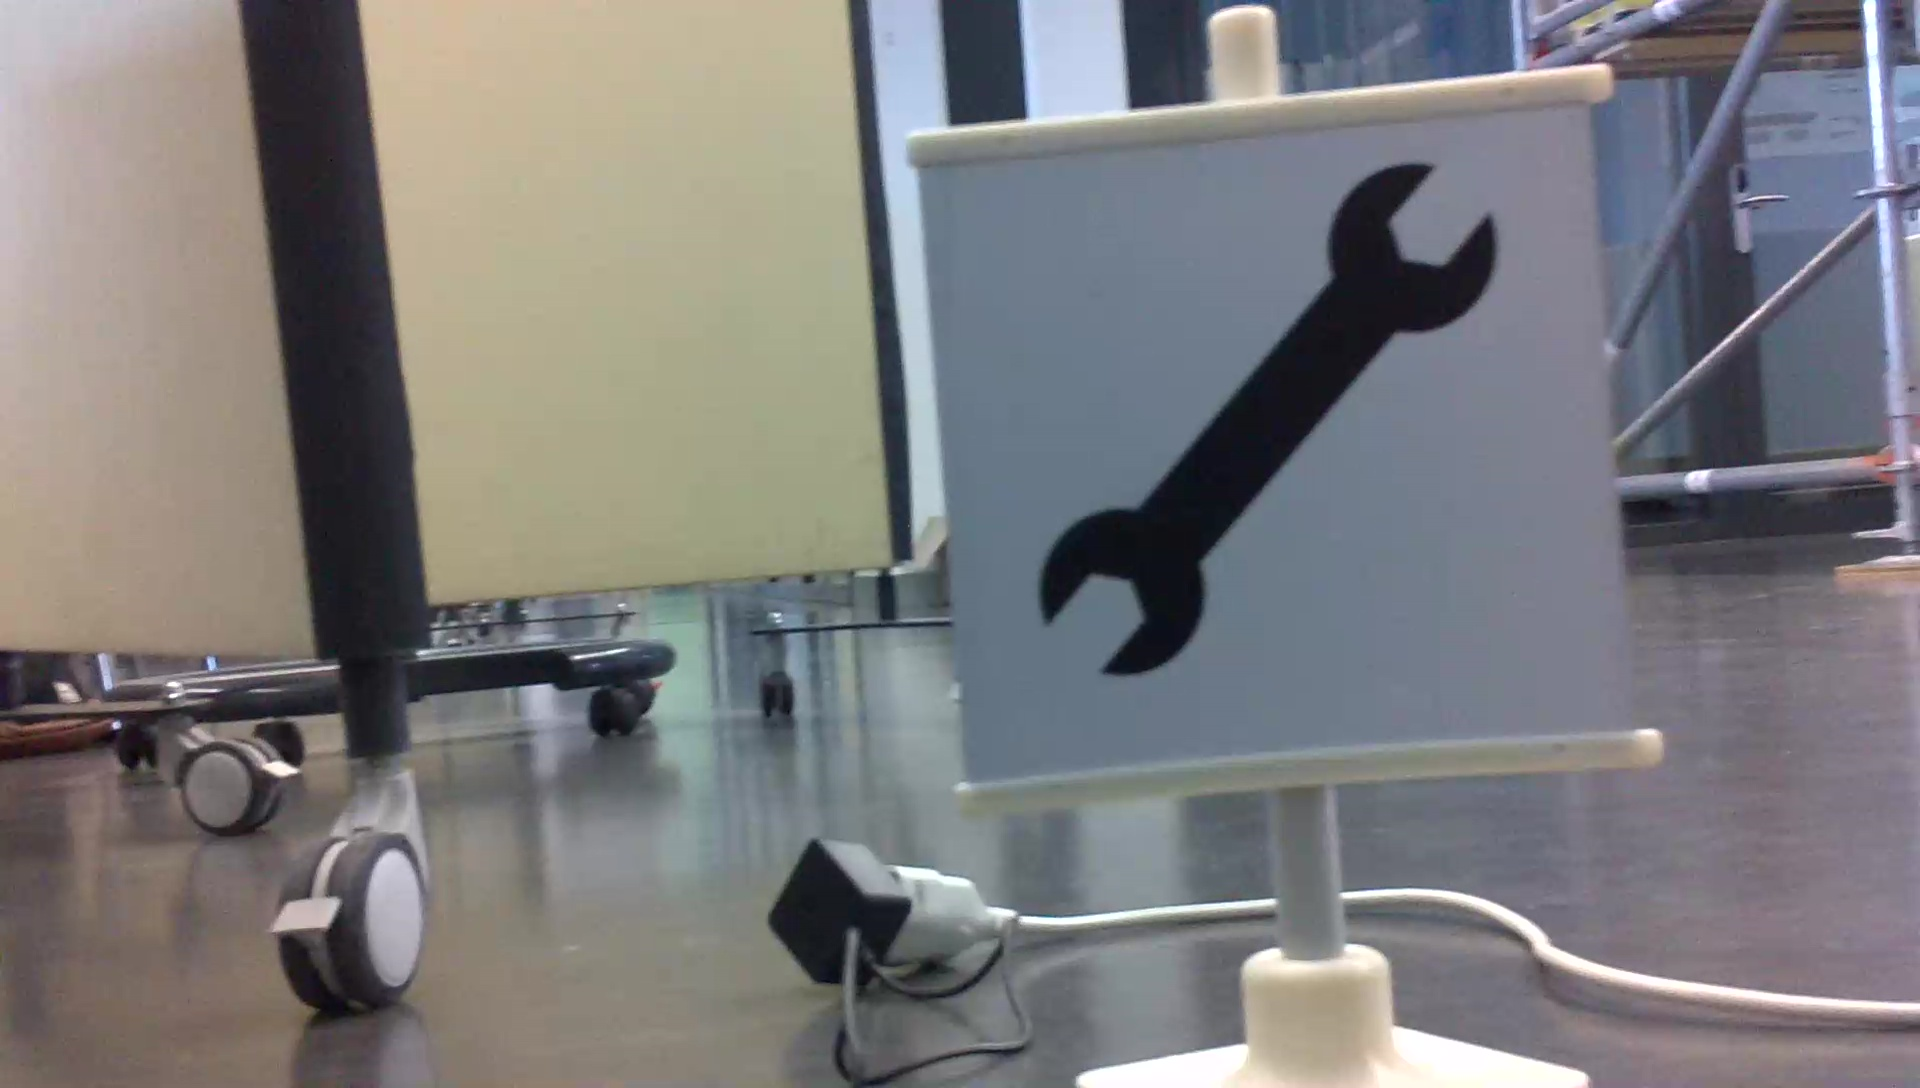wrench: (1021, 153, 1510, 698)
